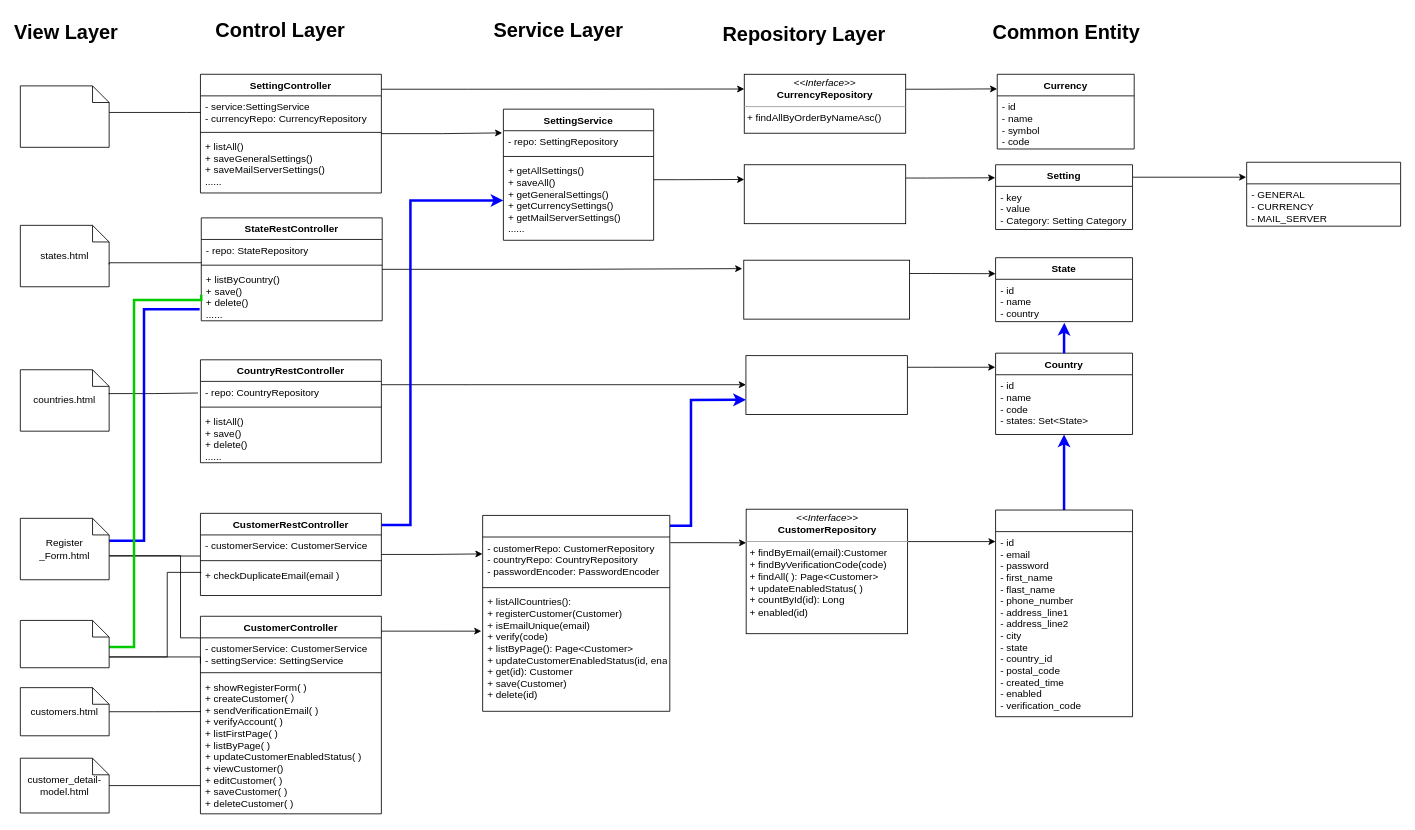
Image size: 1415x830. Some labels were removed from this diagram. The shapes that lost their labels are listed below. From the top down, each one's box as (x1, y1, x2, y2) in pixels, then its label:
(20, 85, 109, 147): settings.html
(743, 164, 906, 224): <<Interface>> SettingRepository + findByCategory()
(1246, 161, 1401, 226): [Enum] Setting Category
(743, 259, 910, 319): <<Interface>> StateRepository + findByCountryOrderByNameAsc()
(745, 355, 907, 415): <<Interface>> CountryRepository + findAllByOrderByNameAsc()
(482, 515, 670, 711): CustomerService
(995, 509, 1133, 717): Customer
(20, 620, 109, 668): customer _Form.html
